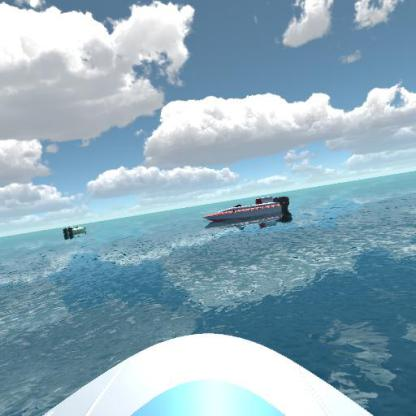usv0: (60, 223, 92, 238)
usv3: (200, 193, 292, 229)
